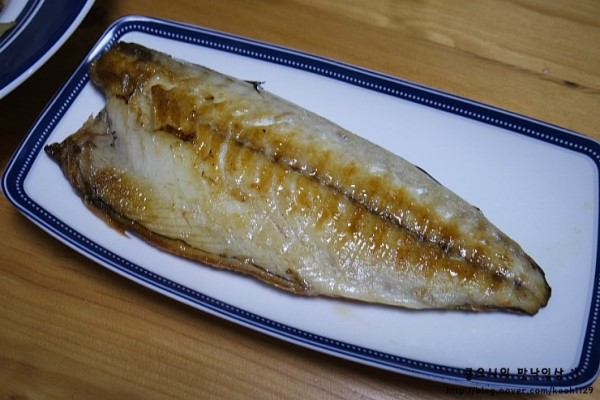godeung-eogu-i: (44, 39, 554, 323)
